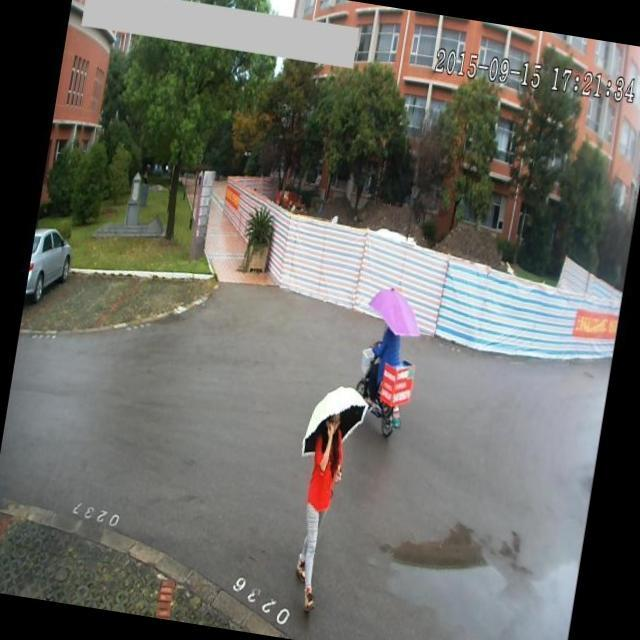person: (289, 408, 356, 617), (364, 306, 410, 393)
